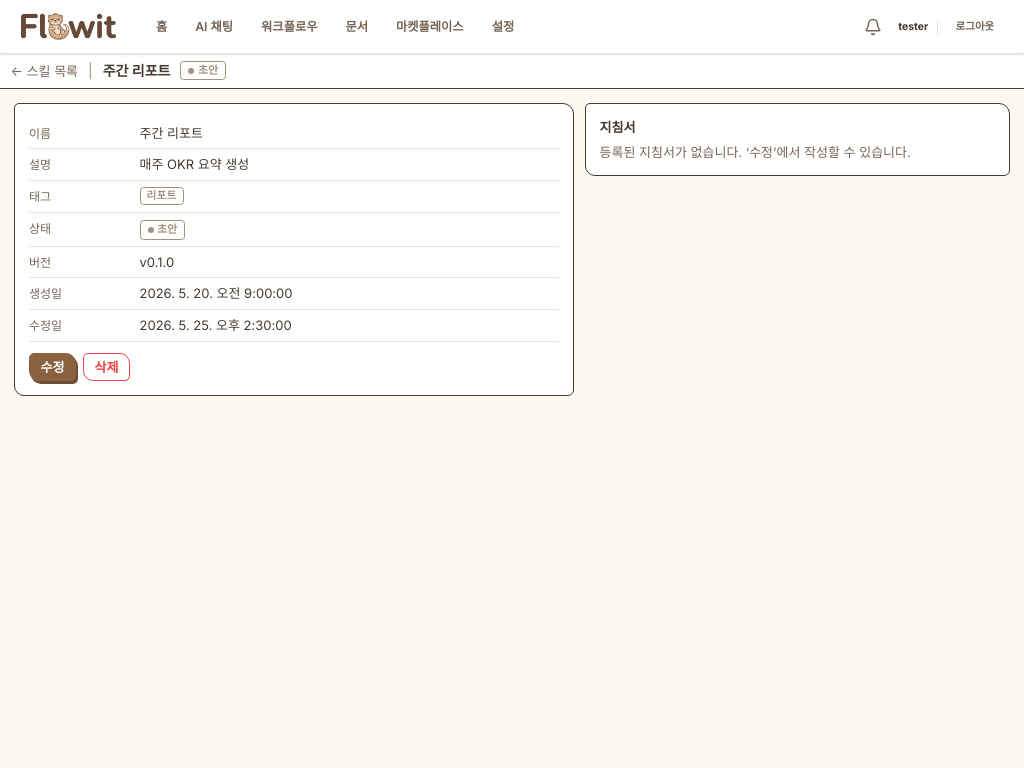
Test: SkillDetailPage › 편집 취소 시 폼이 닫힌다
The width and height of the screenshot is (1024, 768).
Click the button "수정".
click(52, 367)  # box x1=29 y1=353 x2=76 y2=381
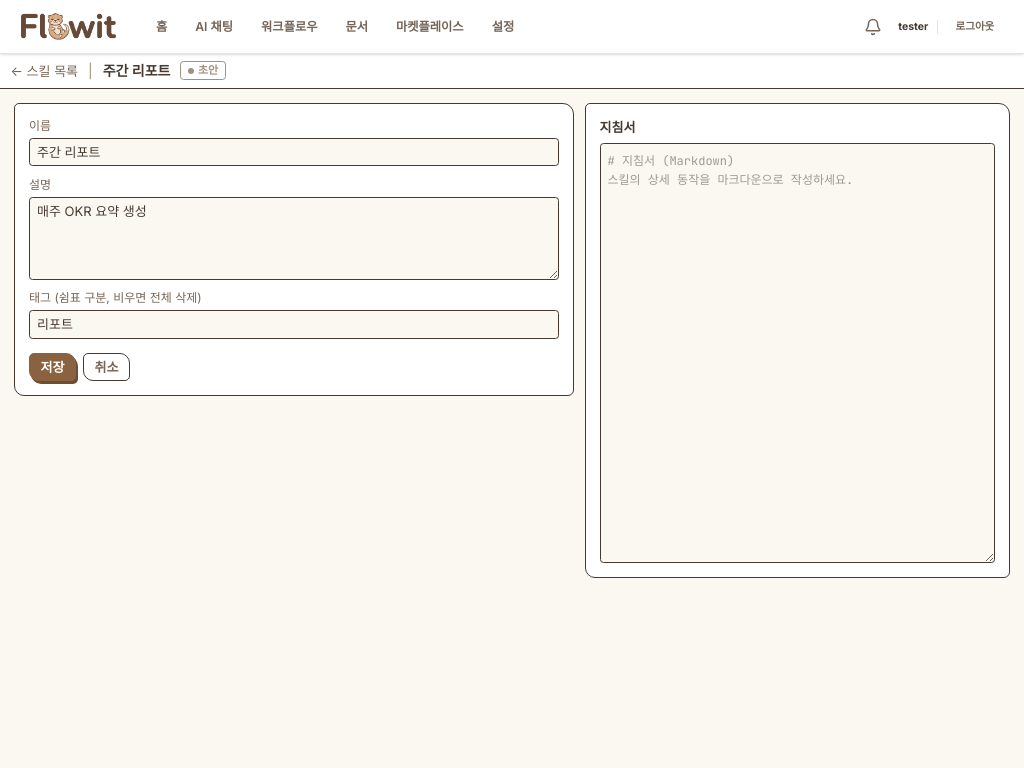
Expected: the field showing "주간 리포트" below "이름" is shown, x1=29 y1=138 x2=559 y2=166
Click the button "취소".
click(106, 367)  # box x1=83 y1=353 x2=130 y2=381
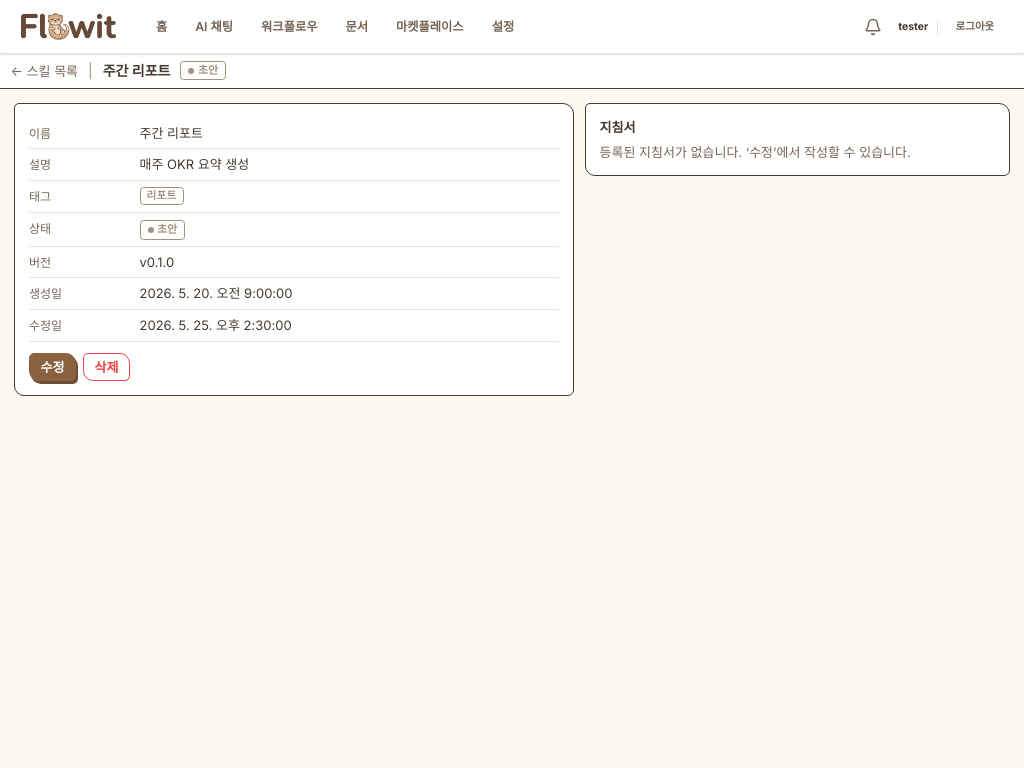
Expected: the button "수정" is shown, x1=29 y1=353 x2=76 y2=381
